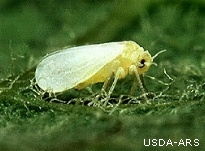whitefly: (35, 41, 164, 102)
